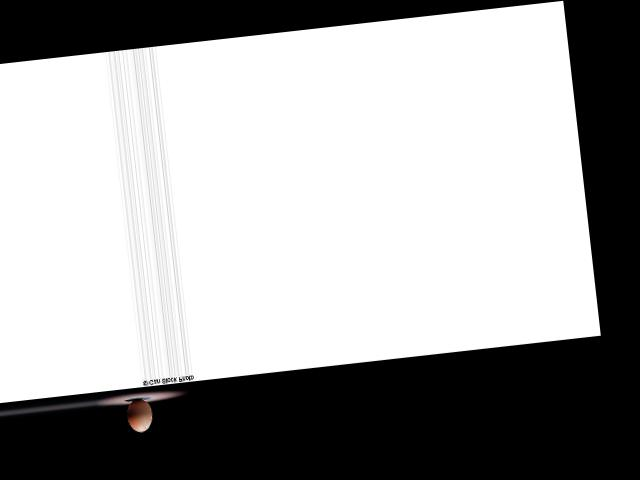egg: (125, 397, 154, 433)
